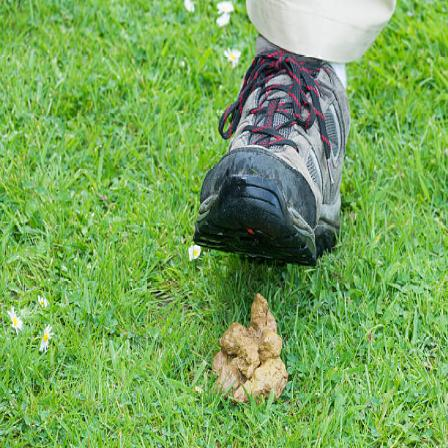dog-poop: (216, 291, 286, 407)
